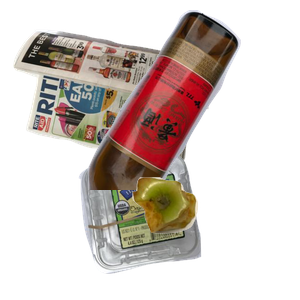glass: (85, 10, 300, 190)
paper: (11, 27, 213, 185)
plastic: (76, 151, 270, 300)
trash: (130, 175, 300, 300)
